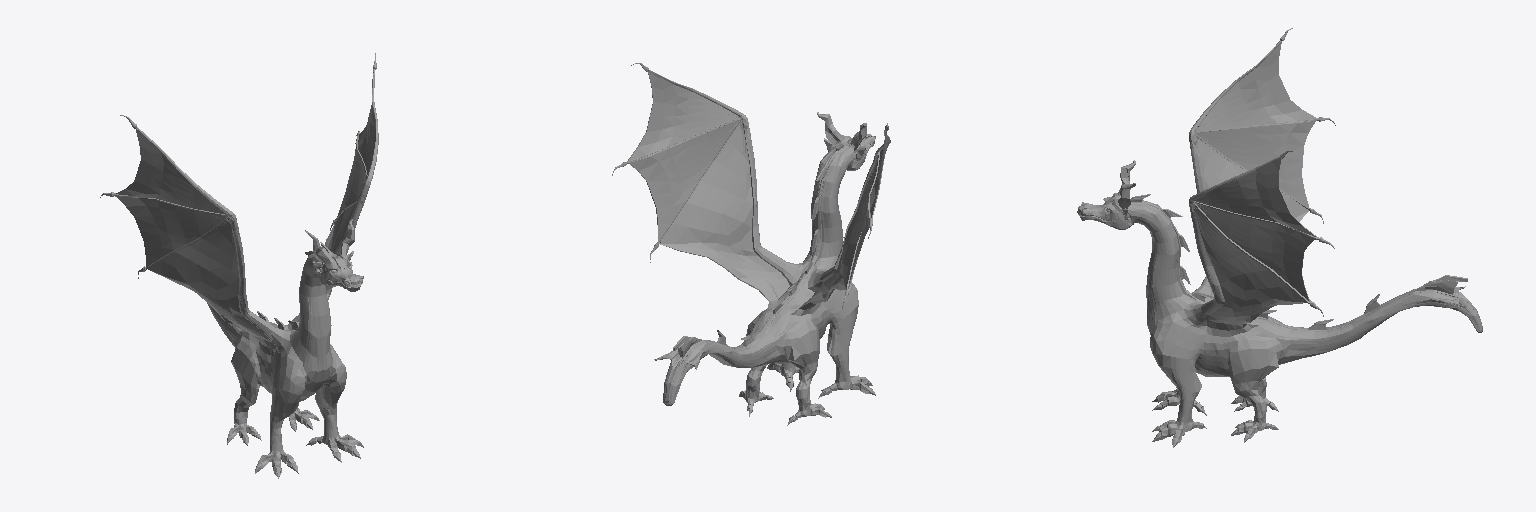
Rendered from Dragon8.obj.
The picture shows the model from 3 angles: view 1: azimuth 30°, elevation 25°; view 2: azimuth 150°, elevation 25°; view 3: azimuth 270°, elevation 25°; orthographic projection.
Visible parts, largest first — view 1: teeth_Cube; view 2: teeth_Cube; view 3: teeth_Cube.
Part boxes in pixels (left/top/right/bottom): teeth_Cube: left=100, top=53, right=378, bottom=478; teeth_Cube: left=612, top=63, right=890, bottom=425; teeth_Cube: left=1077, top=28, right=1482, bottom=447.
Bounding box in the file's own units: 36.12 × 44.74 × 49.35.